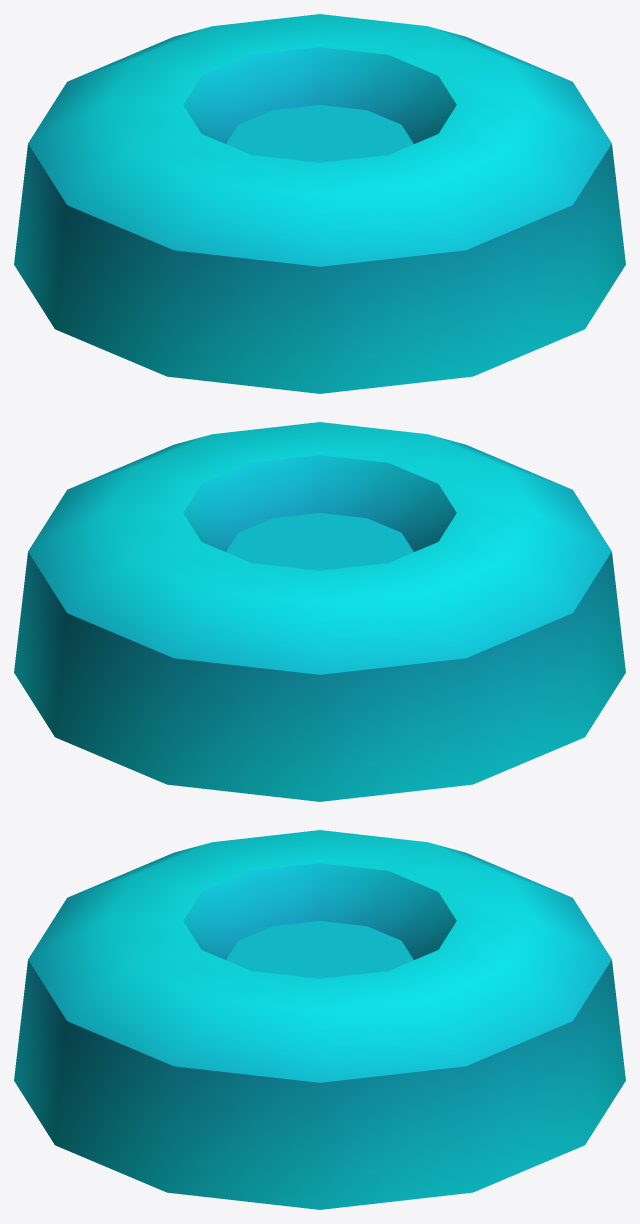
File: candy_C_blue.obj
The picture shows the model from 3 angles, top to bottom: view 1: azimuth 30°, elevation 25°; view 2: azimuth 150°, elevation 25°; view 3: azimuth 270°, elevation 25°; orthographic projection.
Visible parts, largest first — view 1: candy_C_blue; view 2: candy_C_blue; view 3: candy_C_blue.
Boxes of the visible parts, x1,y1,x2,y2 form: candy_C_blue: (14,14,625,393); candy_C_blue: (14,422,625,801); candy_C_blue: (14,830,625,1209).
Bounding box in the file's own units: 0.8241 × 0.2373 × 0.8241.
1 material, 1 textured.
